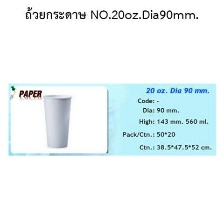paper_cup: (37, 90, 75, 151)
